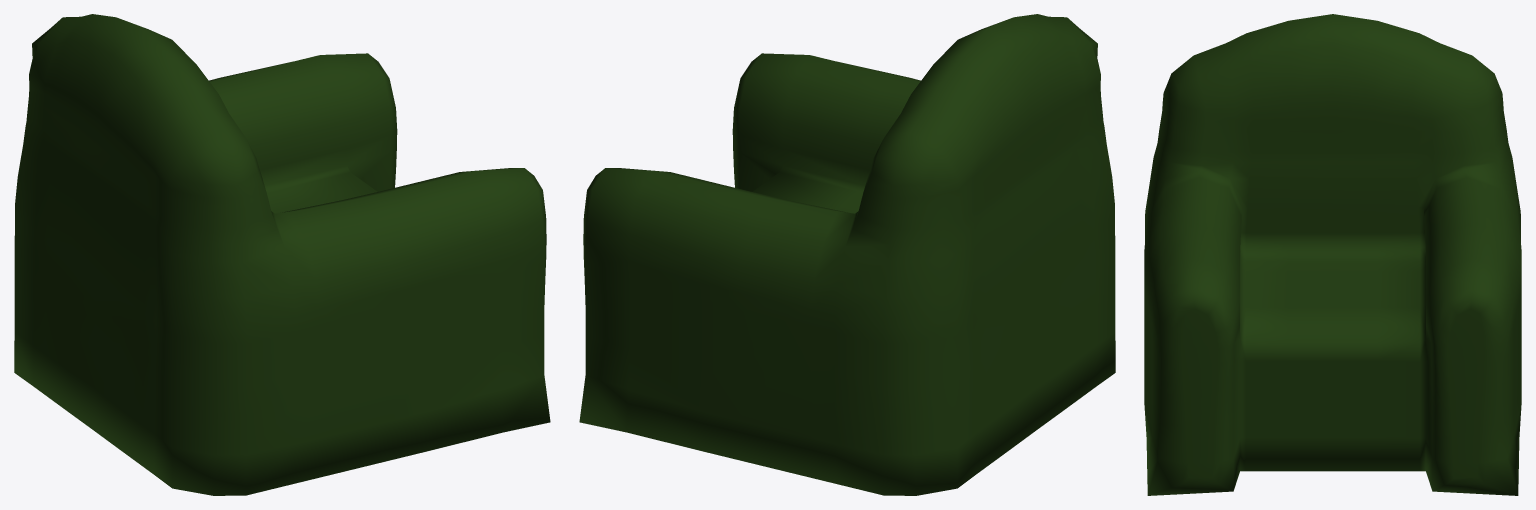
Rendered from Poltrona.fbx.
3 renders of one model, left to right at view 1: azimuth 30°, elevation 25°; view 2: azimuth 150°, elevation 25°; view 3: azimuth 270°, elevation 25°, orthographic. The views are drawn at different scales.
Visible parts, largest first — view 1: Poltrona; view 2: Poltrona; view 3: Poltrona.
Part boxes in pixels (bbox=[...]): Poltrona: bbox=[14, 14, 550, 495]; Poltrona: bbox=[579, 14, 1115, 495]; Poltrona: bbox=[1144, 14, 1521, 495].
Bounding box in the file's own units: 88.85 × 91.73 × 89.78.
